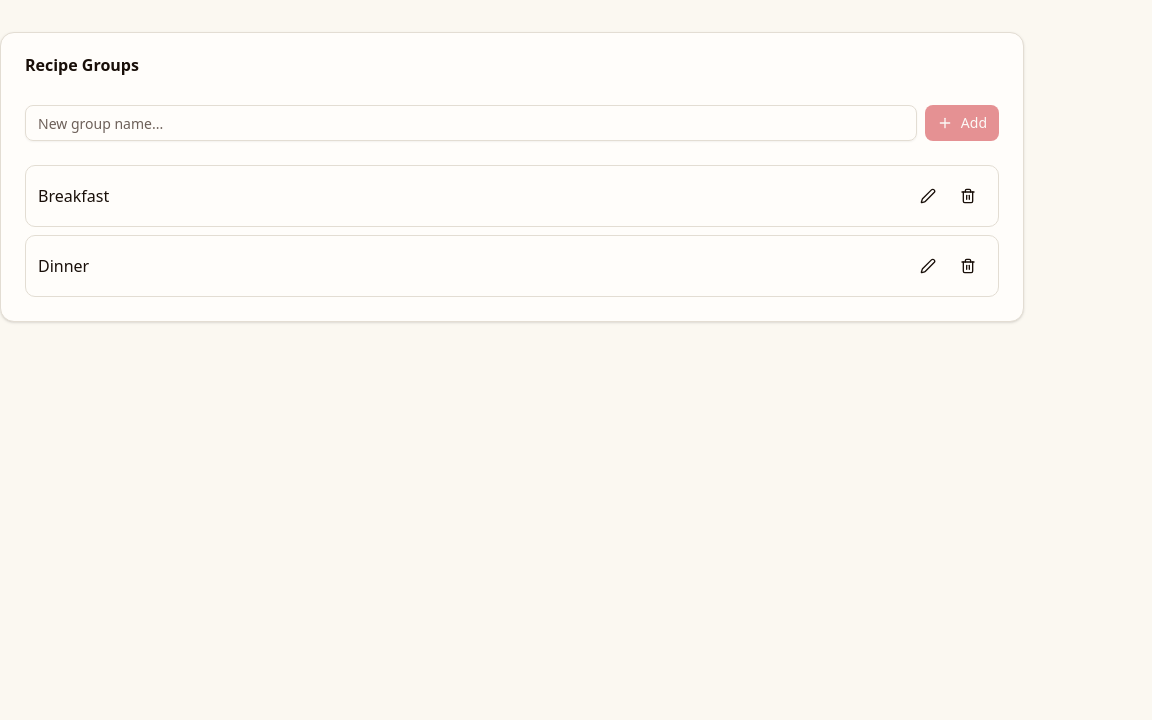
it: Groups › opens delete dialog when clicking delete button
The image size is (1152, 720).
Click the button named "Delete Breakfast": click(968, 196) [950,178,986,214]
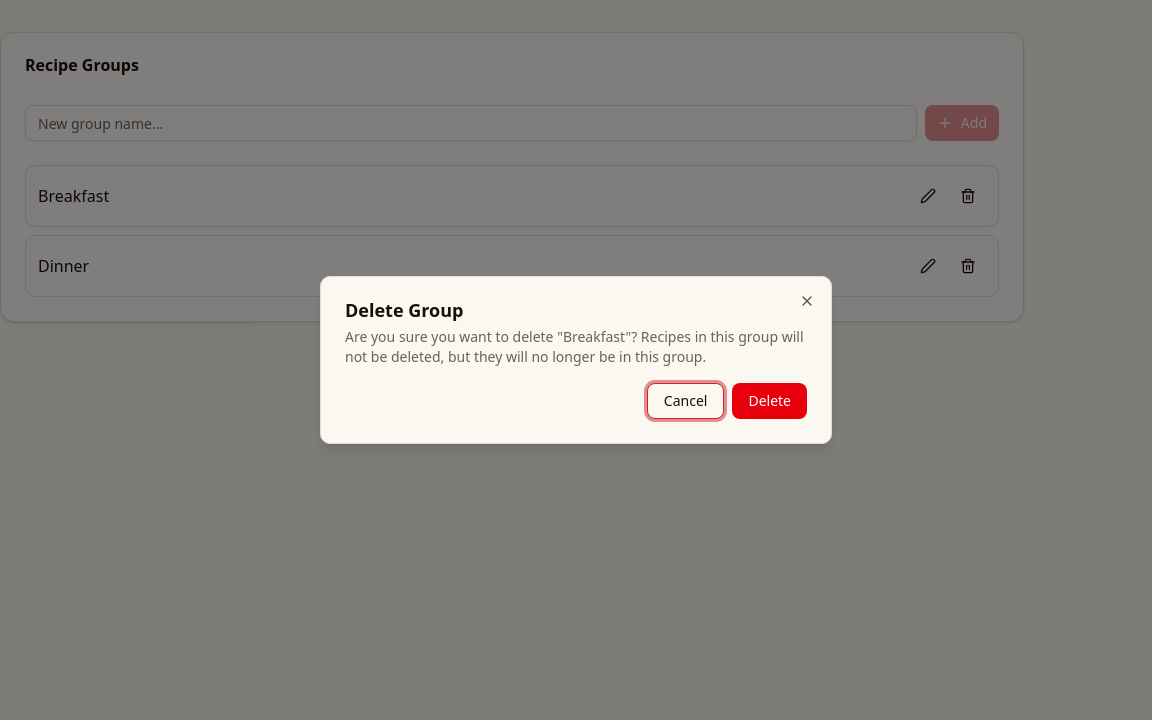
Result: the heading "Delete Group" is shown at [345,298,463,322]
Result: the text "Are you sure you want to delete \"Breakfast\"" is shown at [345,327,807,367]
